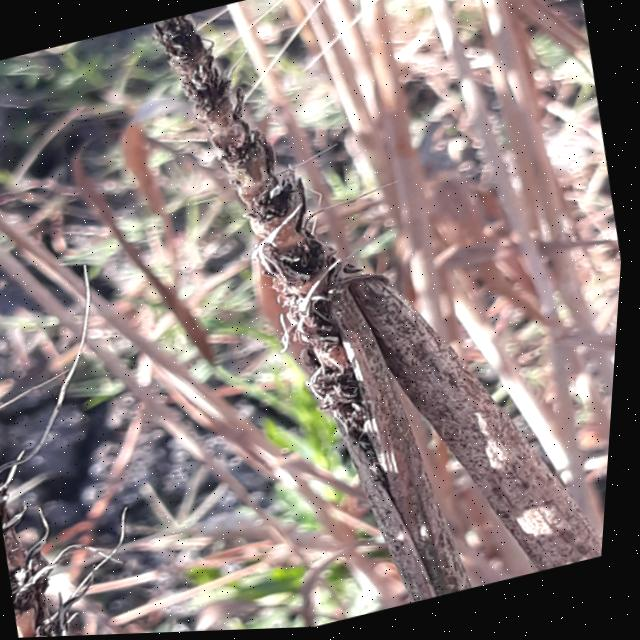loose_charred: (71, 0, 640, 637), (0, 292, 140, 640)
